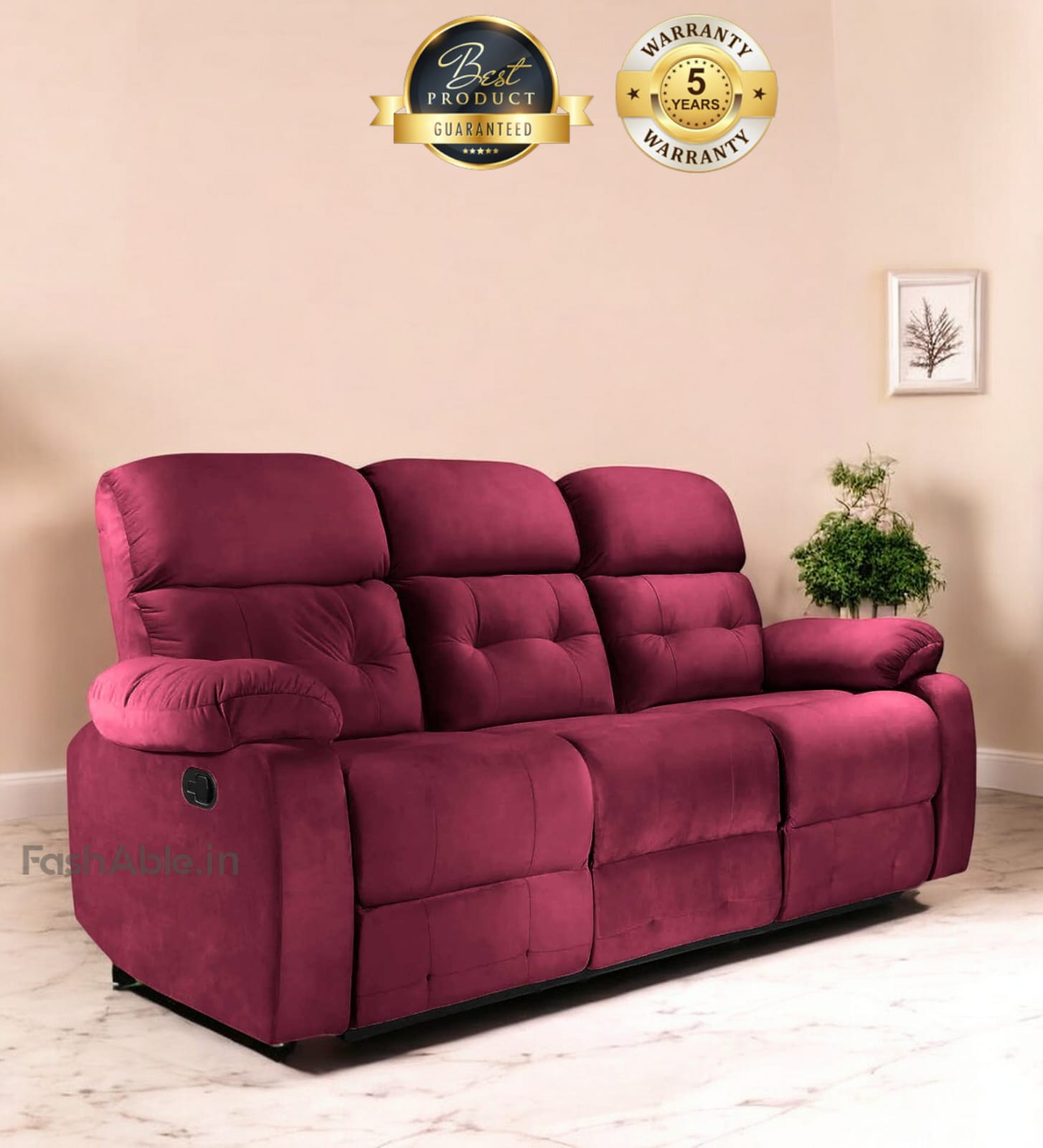3seatersofa: (68, 453, 975, 1045)
backrest: (99, 453, 764, 738)
base: (353, 802, 933, 1027)
leftarmrest: (764, 617, 975, 877)
leg: (111, 964, 142, 989), (268, 1042, 295, 1060)
rightarmrest: (68, 657, 352, 1043)
seat: (339, 692, 940, 906)
